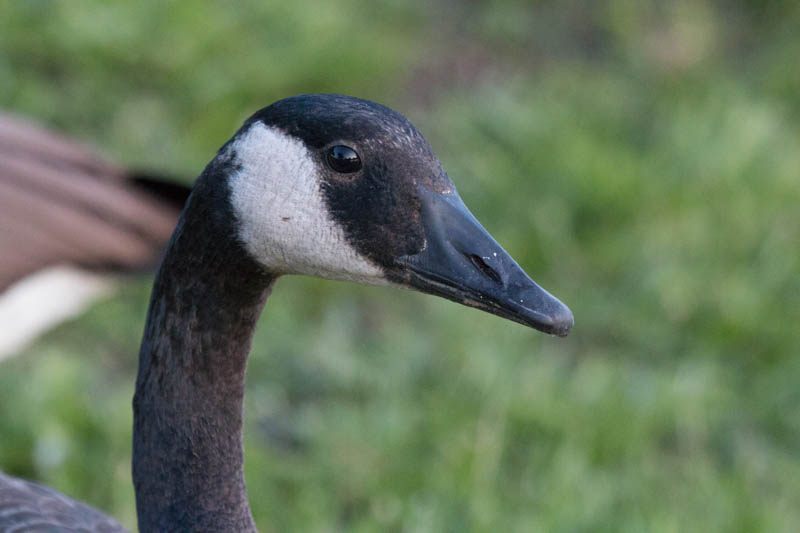goose-head: (205, 94, 576, 339)
